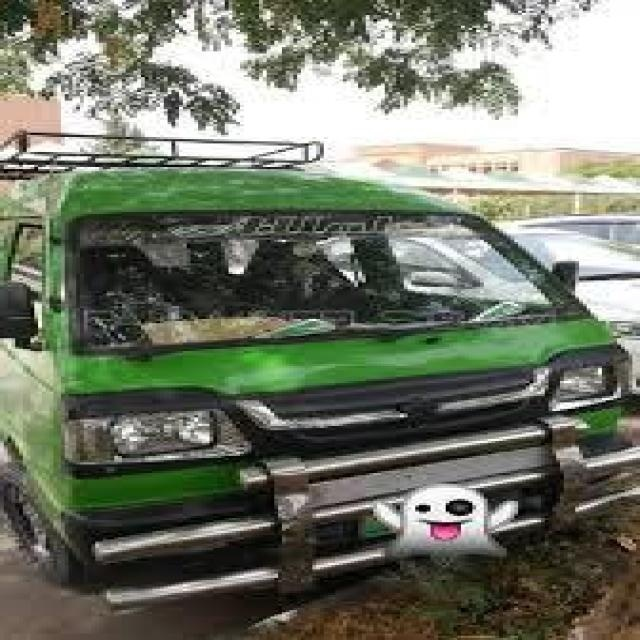Van: (4, 124, 640, 621)
